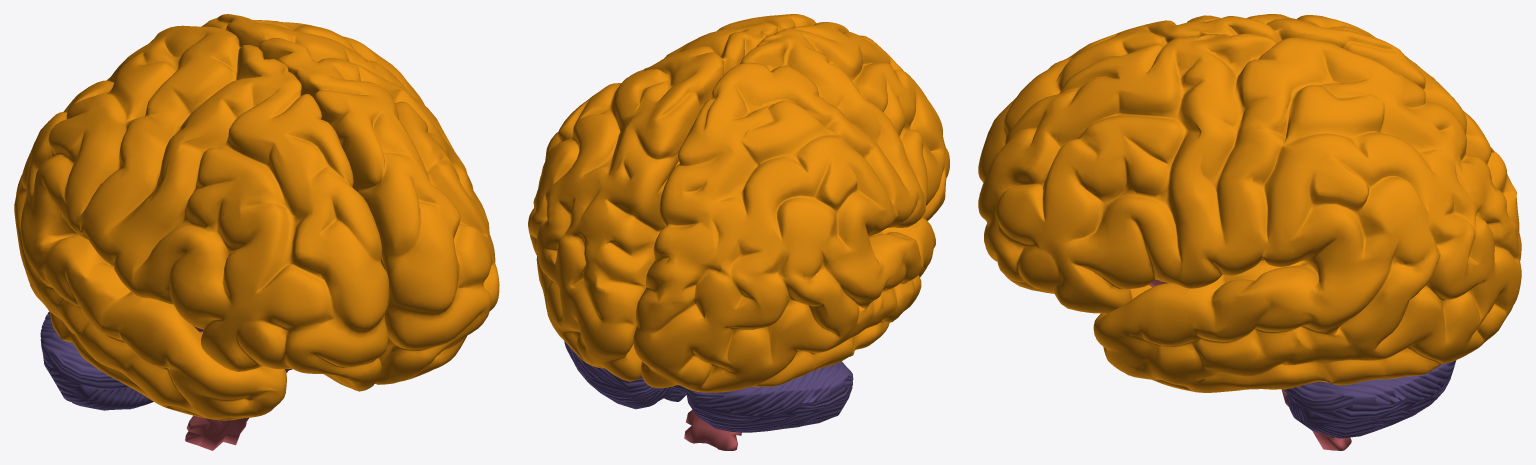
File: THREE-PARTS-BRAIN.glb
3 views of the same model, side by side, from view 1: azimuth 30°, elevation 25°; view 2: azimuth 150°, elevation 25°; view 3: azimuth 270°, elevation 25° (orthographic). The views are drawn at different scales.
Visible parts, largest first — view 1: Brain_Part_06, Brain_Part_04, Brain_Part_02, Brain_Part_05; view 2: Brain_Part_06, Brain_Part_04, Brain_Part_02, Brain_Part_05; view 3: Brain_Part_04, Brain_Part_06, Brain_Part_02, Brain_Part_05.
Part boxes in pixels (box(x1,y1,x2,y2)): Brain_Part_06: box(14, 25, 388, 420); Brain_Part_04: box(201, 14, 499, 384); Brain_Part_02: box(40, 312, 292, 410); Brain_Part_05: box(185, 326, 289, 450); Brain_Part_06: box(633, 22, 949, 392); Brain_Part_04: box(528, 14, 816, 381); Brain_Part_02: box(564, 341, 853, 432); Brain_Part_05: box(684, 409, 741, 450); Brain_Part_04: box(978, 33, 1521, 392); Brain_Part_06: box(978, 14, 1521, 260); Brain_Part_02: box(1283, 360, 1456, 438); Brain_Part_05: box(1149, 259, 1351, 450).
Size of the model in its own units: 3.8 by 4.02 by 4.73.
